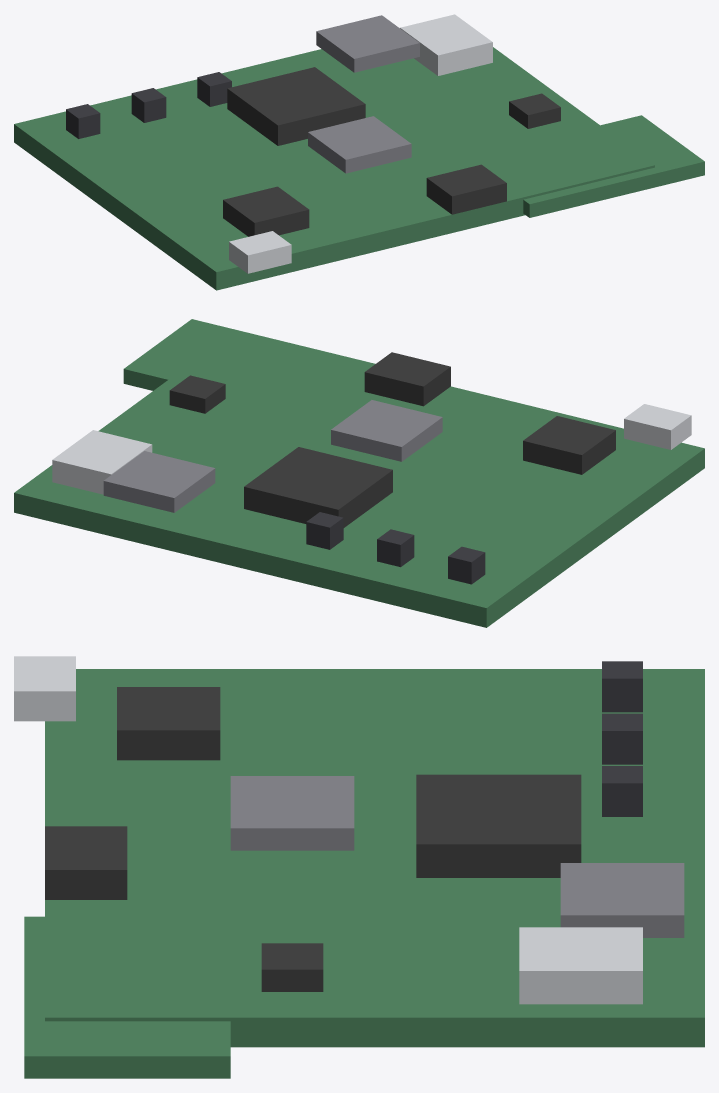
File: mainboard.gltf
The picture shows the model from 3 angles, top to bottom: view 1: azimuth 30°, elevation 25°; view 2: azimuth 150°, elevation 25°; view 3: azimuth 270°, elevation 25°; orthographic projection. The views are drawn at different scales.
Parts seen in each view (by area): view 1: mainboard; view 2: mainboard; view 3: mainboard.
Part boxes in pixels (bbox=[...]): mainboard: bbox=[14, 14, 704, 290]; mainboard: bbox=[14, 319, 704, 627]; mainboard: bbox=[14, 656, 704, 1078].
Size of the model in its own units: 0.22 by 0.019 by 0.1675.
